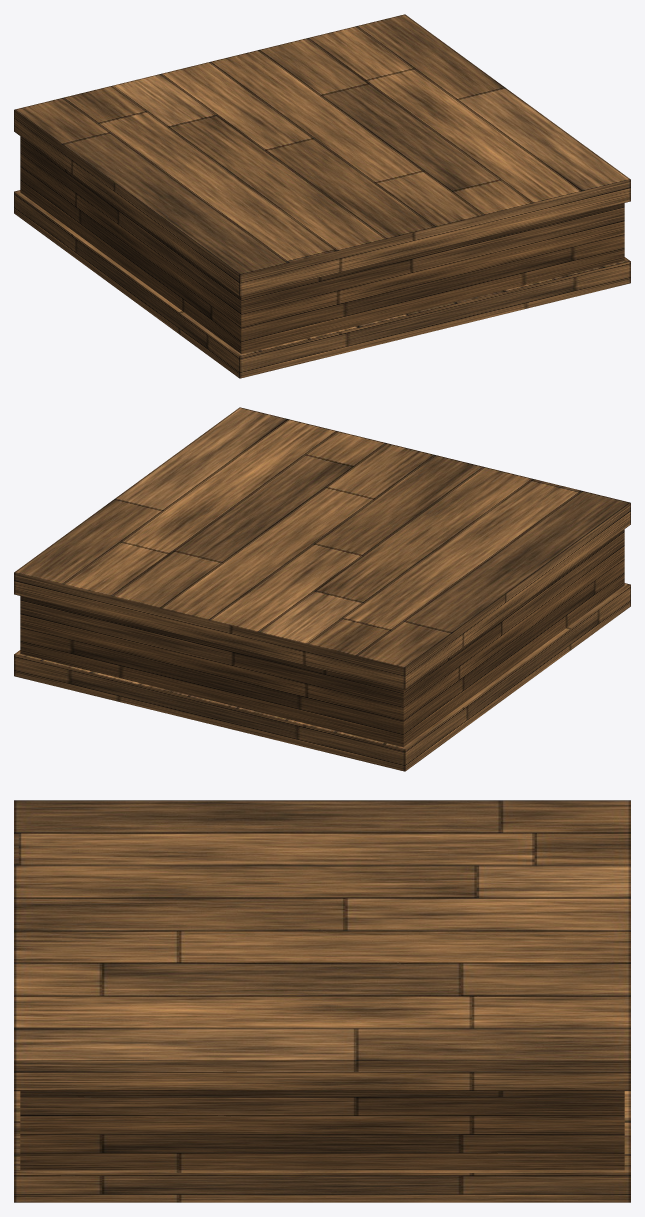
The model's file is platform.glb.
3 renders of one model, top to bottom at view 1: azimuth 30°, elevation 25°; view 2: azimuth 150°, elevation 25°; view 3: azimuth 270°, elevation 25°, orthographic. The views are drawn at different scales.
Visible parts, largest first — view 1: SM_WoodBase_01_Nanite; view 2: SM_WoodBase_01_Nanite; view 3: SM_WoodBase_01_Nanite.
Part boxes in pixels (box(x1,y1,x2,y2)): SM_WoodBase_01_Nanite: box(14, 14, 630, 378); SM_WoodBase_01_Nanite: box(14, 407, 630, 771); SM_WoodBase_01_Nanite: box(14, 800, 630, 1202).
Bounding box in the file's own units: 1.5 × 0.38 × 1.5.
2 materials, 2 textured.
